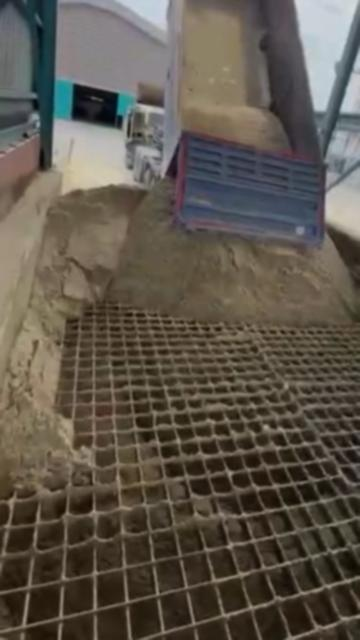sand: (0, 181, 359, 493), (180, 0, 290, 151)
